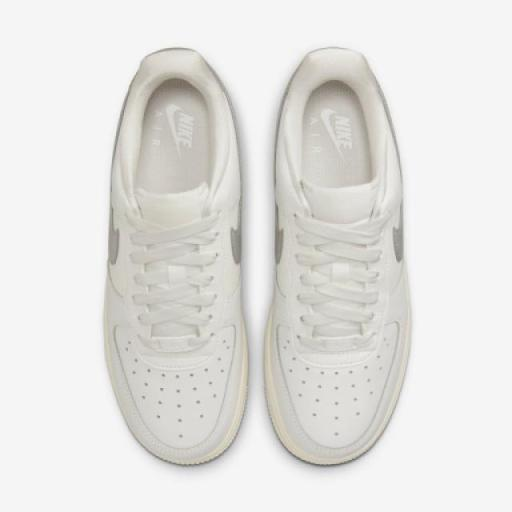Nike: (320, 107, 338, 155), (176, 112, 195, 146)
